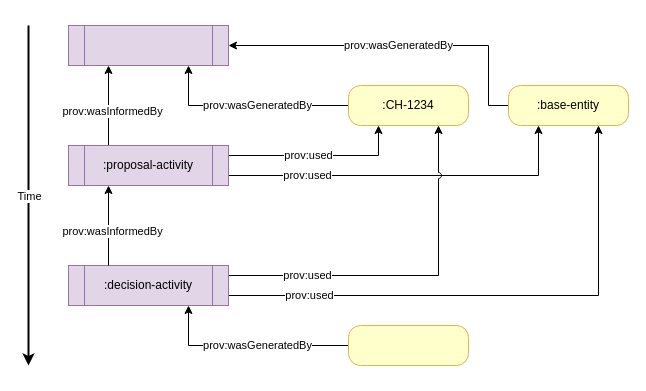
The diagram is 646 pixels wide and 391 high, and some of its shapes have lost their labels. The centre of each missing label's shape, as x and y in pixels:
":decision-entity" belongs at [408,345].
":registration-activity" belongs at [148,45].
